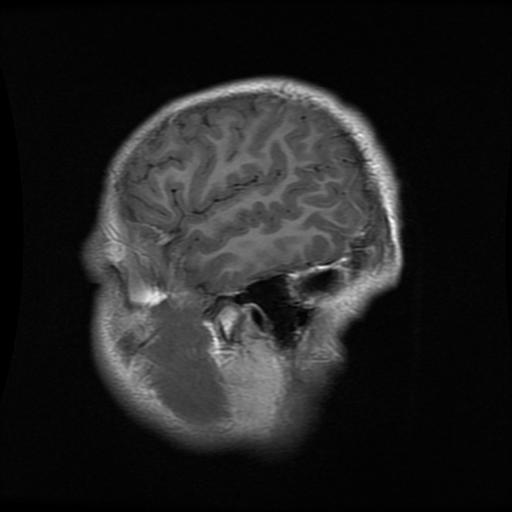Gliomia_tumour: (299, 270, 337, 295)
